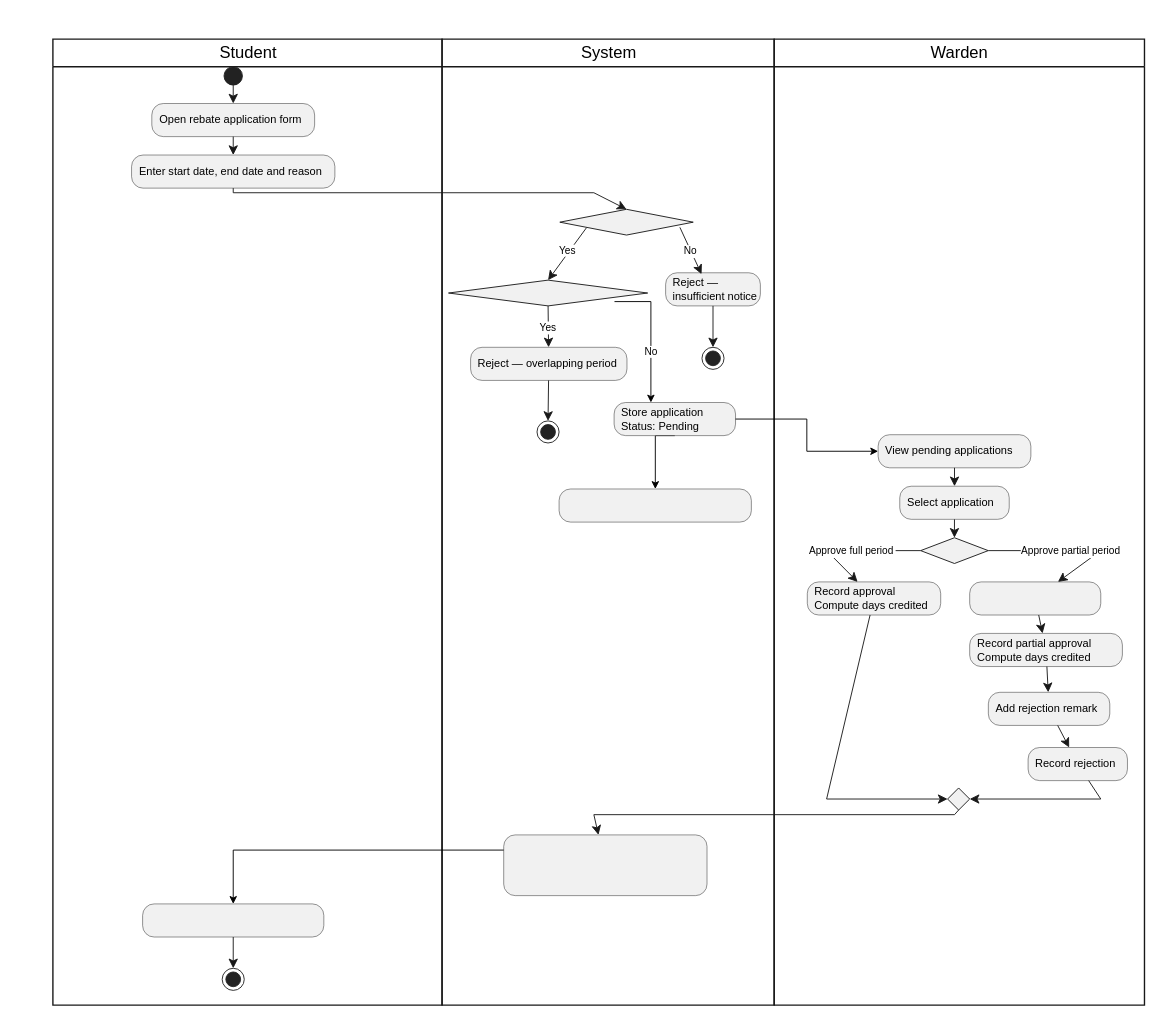
This 1161x1034 diagram has some shape labels left out. Each missing label, with the centre of its shape:
"Dates overlap existing application?" belongs at [548,292].
"Decision?" belongs at [954,550].
"Notice period ≥ 1 day?" belongs at [626,221].
"Notify student of decision and days credited if approved" belongs at [605,864].
"Send acknowledgement to student" belongs at [654,505].
"Set shorter period Add remark" belongs at [1035,598].
"View updated application status" belongs at [233,920].
